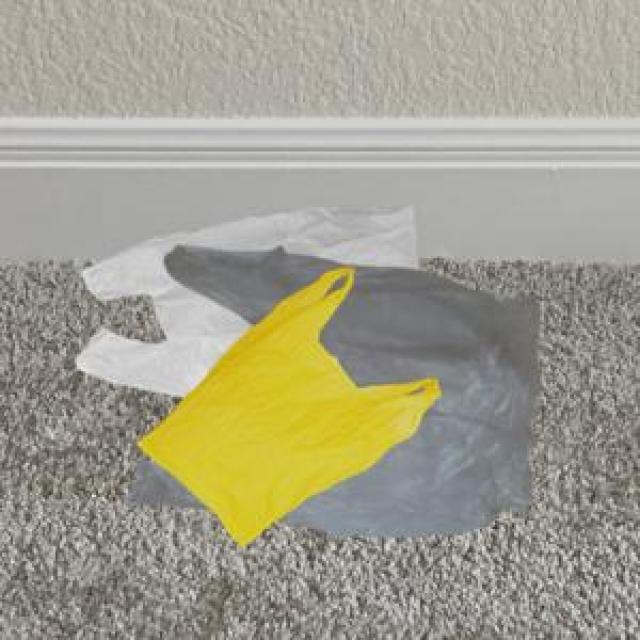waste: (78, 208, 532, 544)
